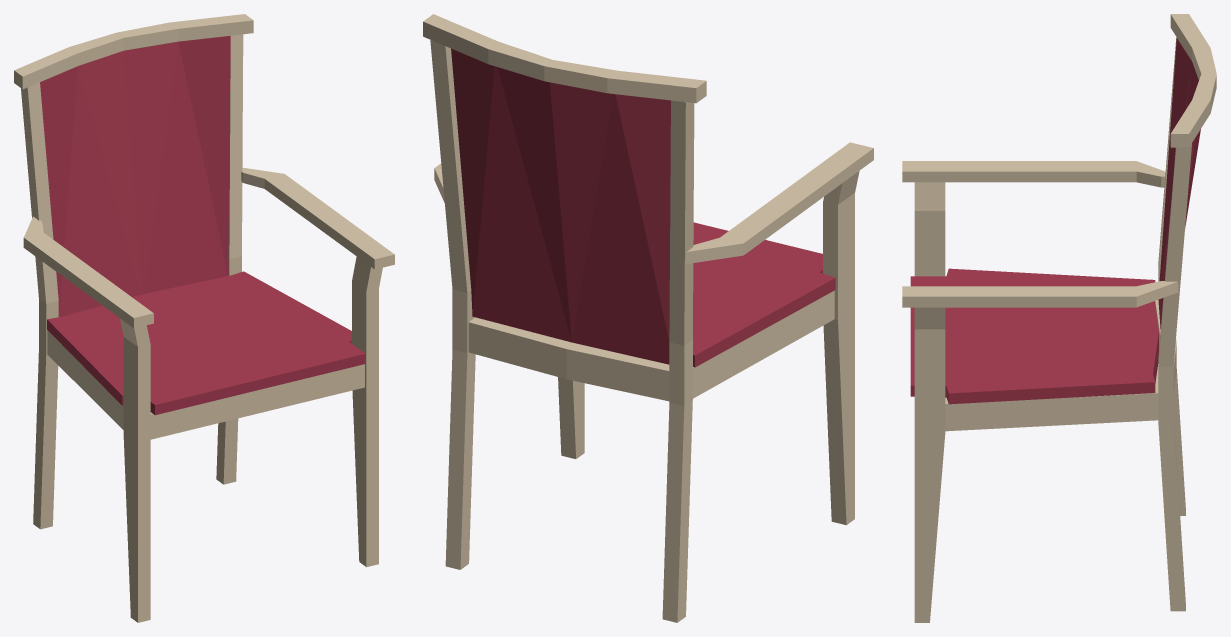
Rendered from sweethome3d-contributions-armchair-366.glb.
3 renders of one model, left to right at view 1: azimuth 30°, elevation 25°; view 2: azimuth 150°, elevation 25°; view 3: azimuth 270°, elevation 25°, orthographic. The views are drawn at different scales.
Parts seen in each view (by area): view 1: 4_4, 5_5, 2_2, 7_7, 3_3, 1_1, 6_6; view 2: 4_4, 2_2, 5_5, 7_7, 6_6, 3_3; view 3: 5_5, 2_2, 3_3, 1_1, 6_6, 7_7, 4_4.
Boxes of the visible parts, <box> form: 4_4: <box>40,35,230,316</box>; 5_5: <box>47,271,365,415</box>; 2_2: <box>14,14,364,529</box>; 7_7: <box>120,318,150,622</box>; 3_3: <box>352,256,382,567</box>; 1_1: <box>241,167,394,269</box>; 6_6: <box>23,216,153,328</box>; 4_4: <box>451,48,670,364</box>; 2_2: <box>423,14,834,622</box>; 5_5: <box>693,222,835,367</box>; 7_7: <box>823,171,859,525</box>; 6_6: <box>685,142,873,264</box>; 3_3: <box>558,377,584,458</box>; 5_5: <box>910,268,1158,404</box>; 2_2: <box>945,14,1216,611</box>; 3_3: <box>914,307,945,622</box>; 1_1: <box>902,281,1178,307</box>; 6_6: <box>902,161,1165,187</box>; 7_7: <box>914,182,945,276</box>; 4_4: <box>1158,38,1200,328</box>.
Size of the model in its own units: 52 by 87 by 51.
